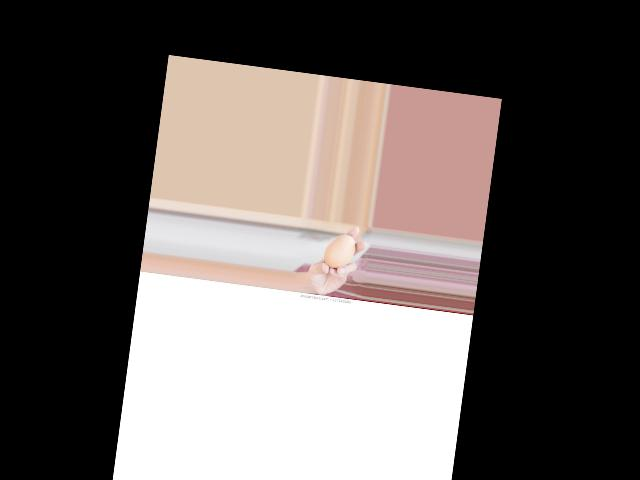egg: (323, 232, 357, 270)
